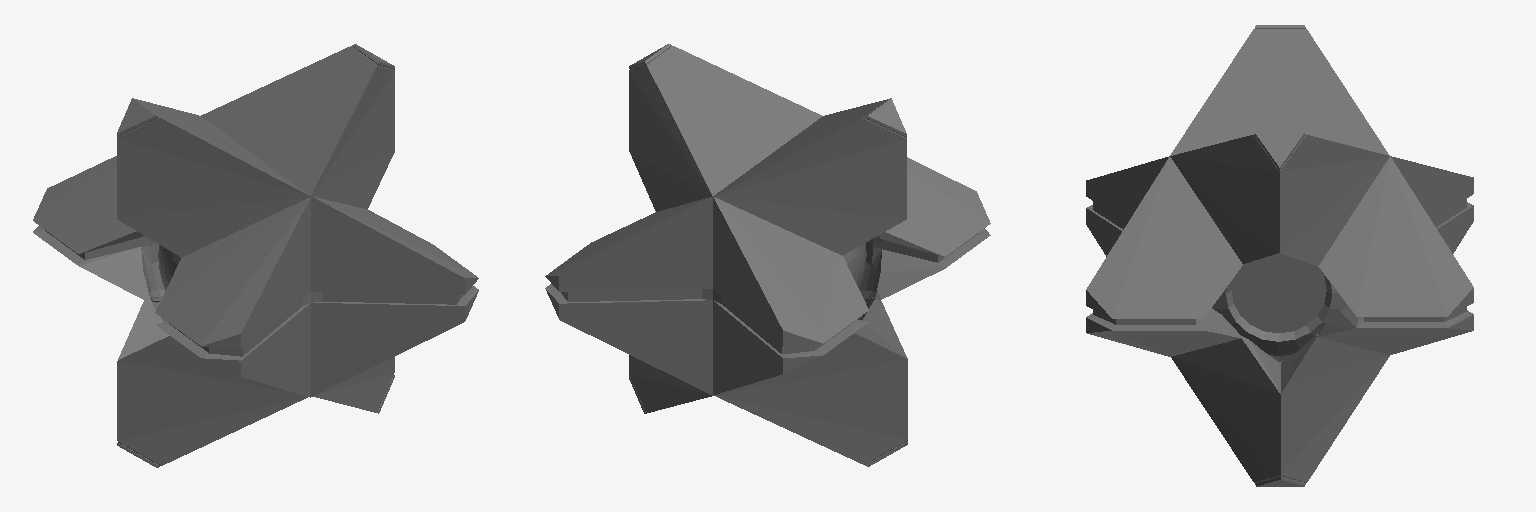
File: Ghost_Export.obj
3 renders of one model, left to right at view 1: azimuth 30°, elevation 25°; view 2: azimuth 150°, elevation 25°; view 3: azimuth 270°, elevation 25°, orthographic.
Visible parts, largest first — view 1: pPrism47, pPrism51, pPrism46, pPrism62, pPrism63, pPrism52, pPrism64, pasted__pSphere3 group7; view 2: pPrism48, pPrism52, pPrism46, pPrism62, pPrism63, pPrism51, pPrism64, pasted__pSphere3 group7; view 3: pPrism64, pPrism47, pPrism48, pPrism46, pPrism62, pasted__pSphere3 group7, pPrism52, pPrism51.
Part boxes in pixels (x1,y1,x2,y2): pPrism47: (311, 196, 478, 396); pPrism51: (155, 197, 310, 397); pPrism46: (201, 44, 394, 208); pPrism62: (117, 98, 310, 257); pPrism63: (117, 299, 307, 467); pPrism52: (33, 156, 164, 301); pPrism64: (313, 357, 394, 413); pasted__pSphere3 group7: (158, 245, 180, 290); pPrism48: (545, 196, 712, 395); pPrism52: (713, 197, 868, 394); pPrism46: (629, 44, 822, 211); pPrism62: (713, 98, 906, 255); pPrism63: (713, 299, 907, 466); pPrism51: (860, 157, 990, 301); pPrism64: (629, 355, 711, 413); pasted__pSphere3 group7: (843, 243, 866, 289); pPrism64: (1171, 333, 1389, 486); pPrism47: (1086, 157, 1242, 356); pPrism48: (1317, 156, 1473, 354); pPrism46: (1170, 134, 1389, 265); pPrism62: (1170, 25, 1389, 155); pasted__pSphere3 group7: (1212, 253, 1347, 362); pPrism52: (1391, 156, 1473, 253); pPrism51: (1086, 156, 1169, 256).
Bounding box in the file's own units: 0.9139 × 1.1 × 1.1.